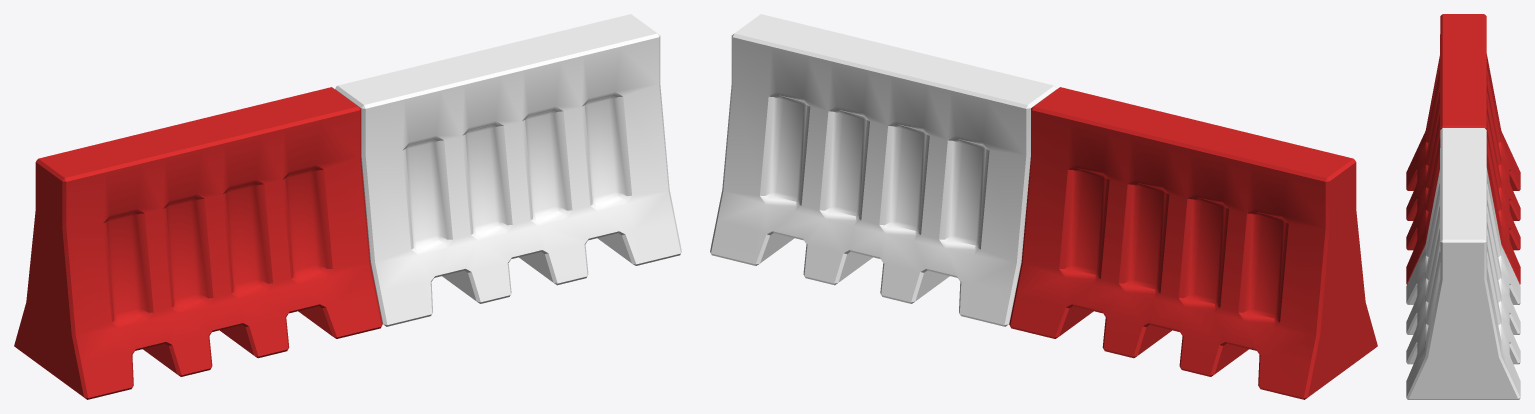
File: obtacle.block.fbx
The picture shows the model from 3 angles, left to right: view 1: azimuth 30°, elevation 25°; view 2: azimuth 150°, elevation 25°; view 3: azimuth 270°, elevation 25°; orthographic projection. The views are drawn at different scales.
Visible parts, largest first — view 1: Cube.001, Cube.002; view 2: Cube.001, Cube.002; view 3: Cube.002, Cube.001.
Part boxes in pixels (bbox=[...]): Cube.001: bbox=[14, 87, 382, 399]; Cube.002: bbox=[335, 14, 681, 326]; Cube.001: bbox=[1009, 87, 1377, 399]; Cube.002: bbox=[710, 14, 1056, 326]; Cube.002: bbox=[1406, 128, 1520, 399]; Cube.001: bbox=[1406, 14, 1520, 284].
Size of the model in its own units: 928 by 305 by 197.
Materials: 1 (1 with a texture image).
